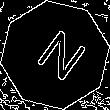N_SW: (24, 23, 86, 87)
